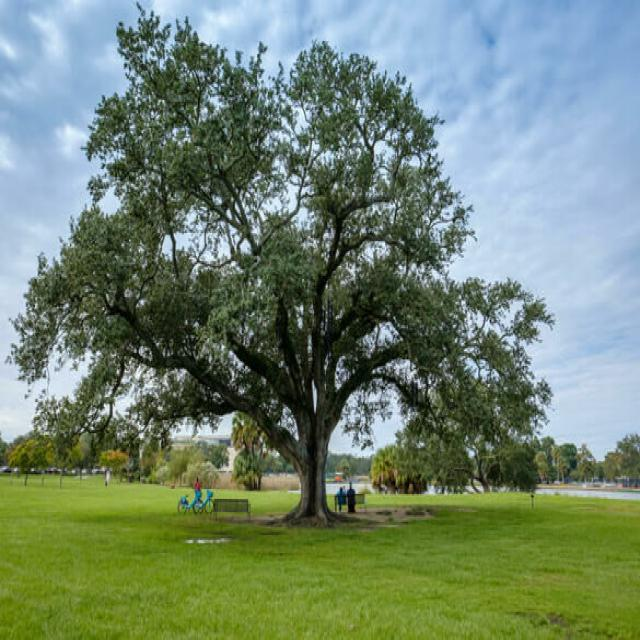Tree: (12, 7, 546, 536), (405, 277, 560, 502), (228, 395, 279, 492), (428, 431, 476, 494), (502, 434, 541, 497), (96, 416, 136, 475), (139, 420, 173, 484), (476, 441, 515, 495), (8, 426, 42, 485), (29, 428, 62, 487), (604, 435, 640, 489), (396, 438, 431, 492), (175, 439, 228, 474), (49, 428, 78, 487), (372, 444, 404, 495), (535, 438, 565, 489), (575, 443, 602, 486), (71, 437, 96, 482), (186, 459, 220, 489), (555, 444, 580, 484)
